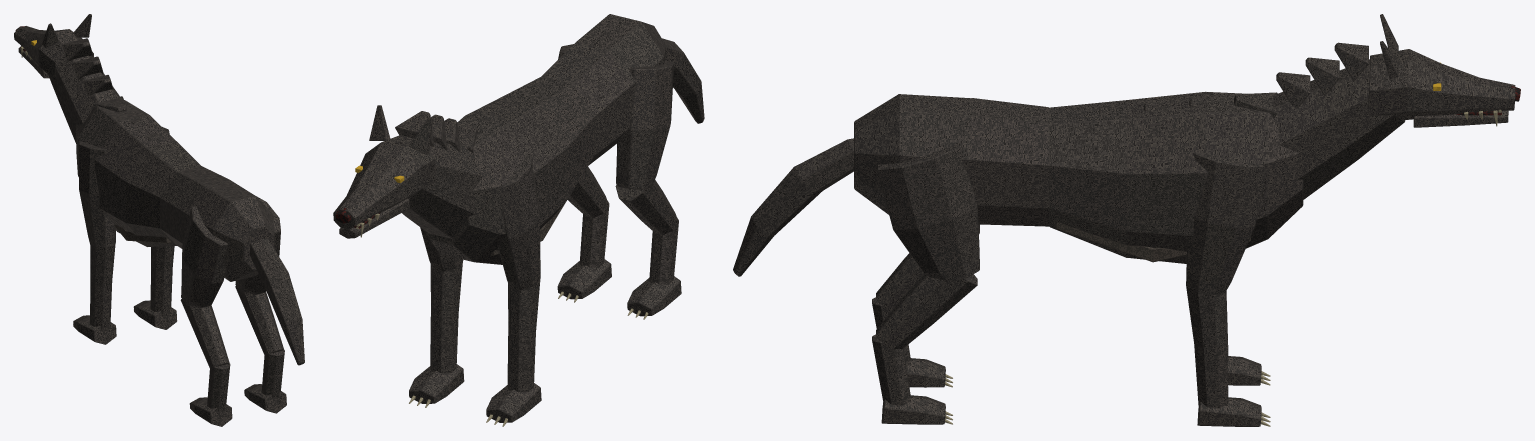
File: warg.glb
3 renders of one model, left to right at view 1: azimuth 30°, elevation 25°; view 2: azimuth 150°, elevation 25°; view 3: azimuth 270°, elevation 25°, orthographic. The views are drawn at different scales.
Visible parts, largest first — view 1: tulow, szyja, lapa_tl, lapa_tl2, lapa_tp2, ogon, lapa_pl2, lapa_pl, lapa_pp2, glowa, lapa_tp; view 2: tulow, glowa, szyja, lapa_tl, lapa_tl2, lapa_pl2, lapa_pp2, lapa_pl, lapa_tp2, ogon, zuchwa, lapa_pp; view 3: tulow, szyja, lapa_tp, glowa, lapa_pp, lapa_tp2, lapa_pp2, ogon, lapa_tl2, lapa_pl2, zuchwa.
Part boxes in pixels (box(x1,y1,x2,y2)): tulow: box(76, 96, 274, 281); szyja: box(48, 38, 119, 144); lapa_tl: box(181, 206, 227, 308); lapa_tl2: box(180, 299, 232, 426); lapa_tp2: box(235, 286, 286, 413); ogon: box(250, 238, 304, 365); lapa_pl2: box(73, 243, 116, 344); lapa_pl: box(78, 140, 115, 246); lapa_pp2: box(133, 246, 177, 329); glowa: box(14, 14, 93, 79); lapa_tp: box(235, 196, 280, 294); tulow: box(424, 14, 665, 264); glowa: box(333, 105, 435, 237); szyja: box(395, 111, 482, 239); lapa_tl: box(616, 60, 673, 189); lapa_tl2: box(615, 180, 681, 319); lapa_pl2: box(486, 279, 541, 426); lapa_pp2: box(409, 261, 464, 407); lapa_pl: box(498, 153, 540, 290); lapa_tp2: box(557, 167, 611, 302); ogon: box(662, 38, 704, 123); zuchwa: box(339, 198, 409, 238); lapa_pp: box(420, 227, 463, 271); tulow: box(854, 91, 1303, 263); szyja: box(1273, 42, 1405, 199); lapa_tp: box(877, 143, 979, 282); glowa: box(1368, 14, 1520, 126); lapa_pp: box(1186, 152, 1264, 294); lapa_tp2: box(872, 273, 977, 424); lapa_pp2: box(1186, 281, 1270, 426); ogon: box(733, 138, 853, 276); lapa_tl2: box(872, 253, 952, 387); lapa_pl2: box(1225, 291, 1270, 385); zuchwa: box(1413, 109, 1508, 127).
Size of the model in its own units: 0.4305 by 1.28 by 2.42.
5 materials, 5 textured.
